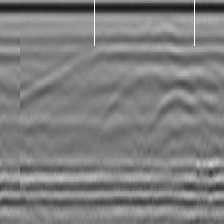Utility: (147, 66, 197, 127)
